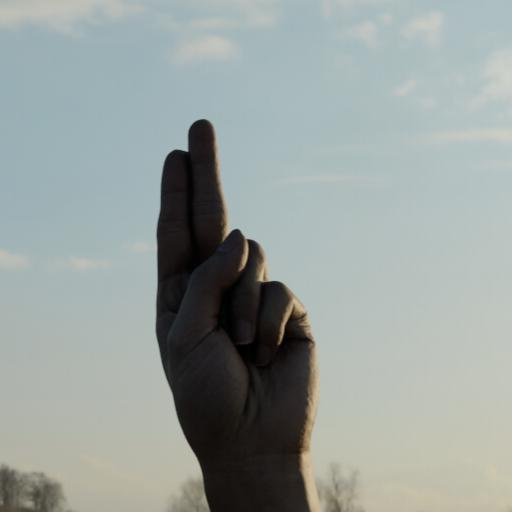U: (143, 110, 349, 484)
